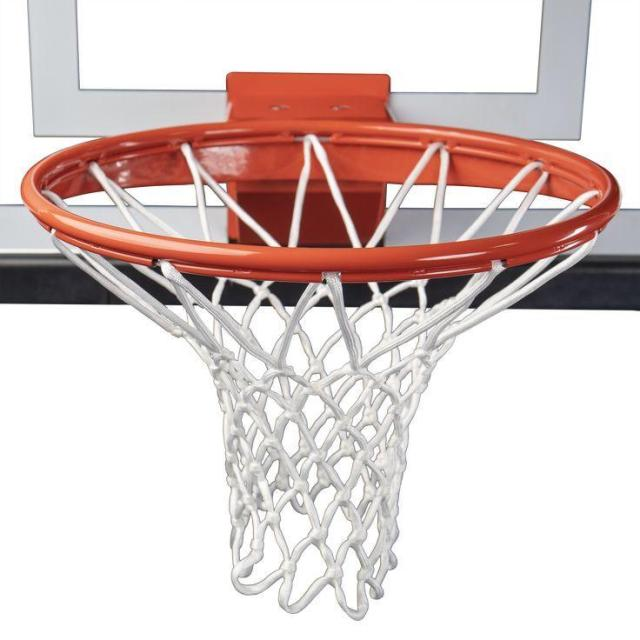hoop: (15, 118, 640, 558)
